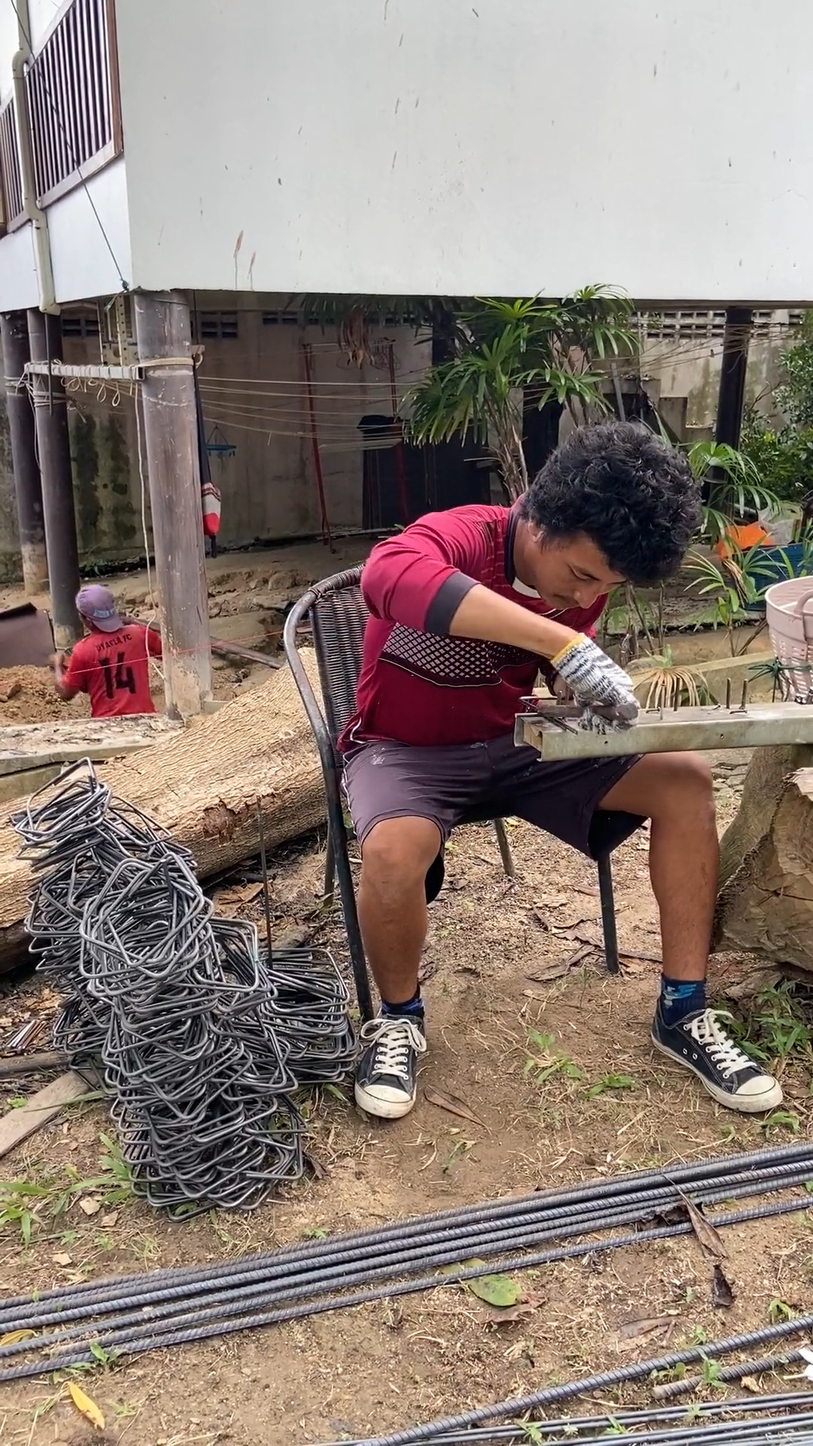gloves: (545, 618, 660, 745)
